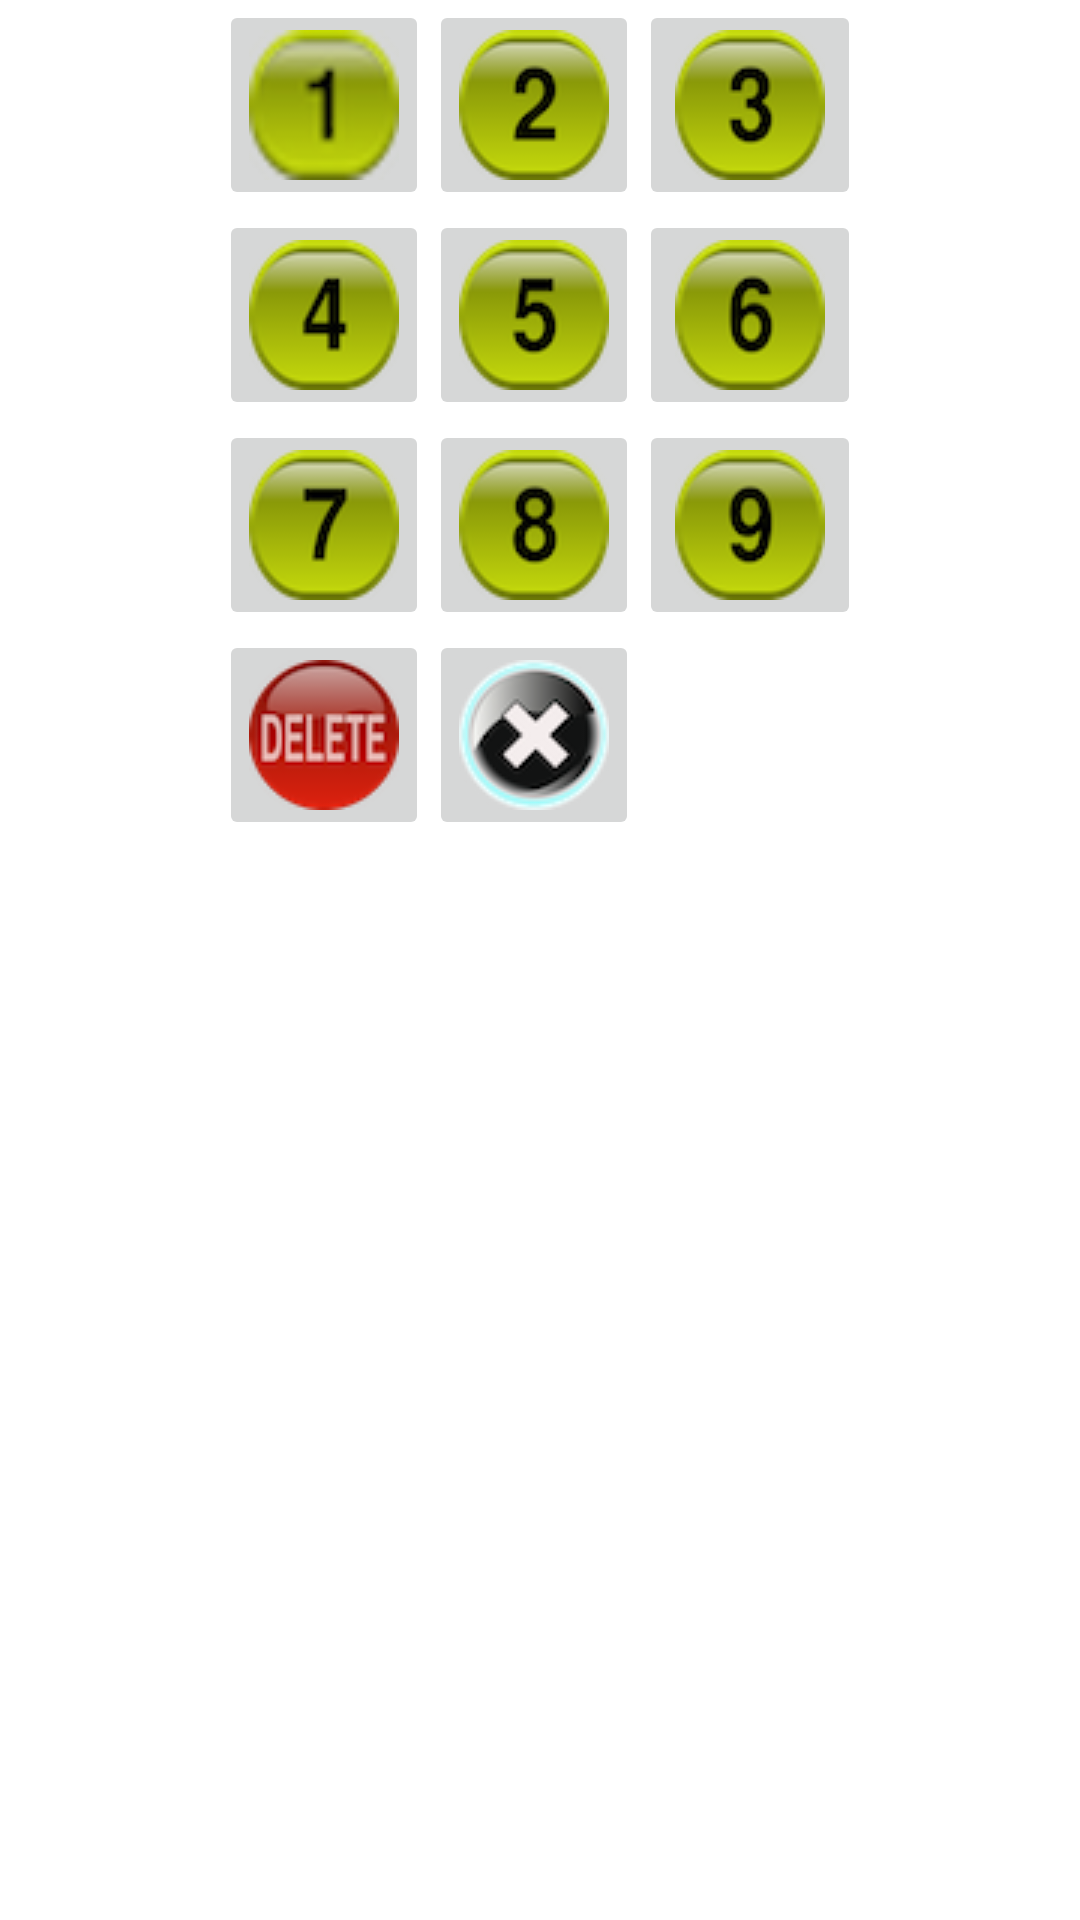

Icons on this 1080×1920 Android screen, each with the point to tap as (x,y):
cancel: (534,735)
